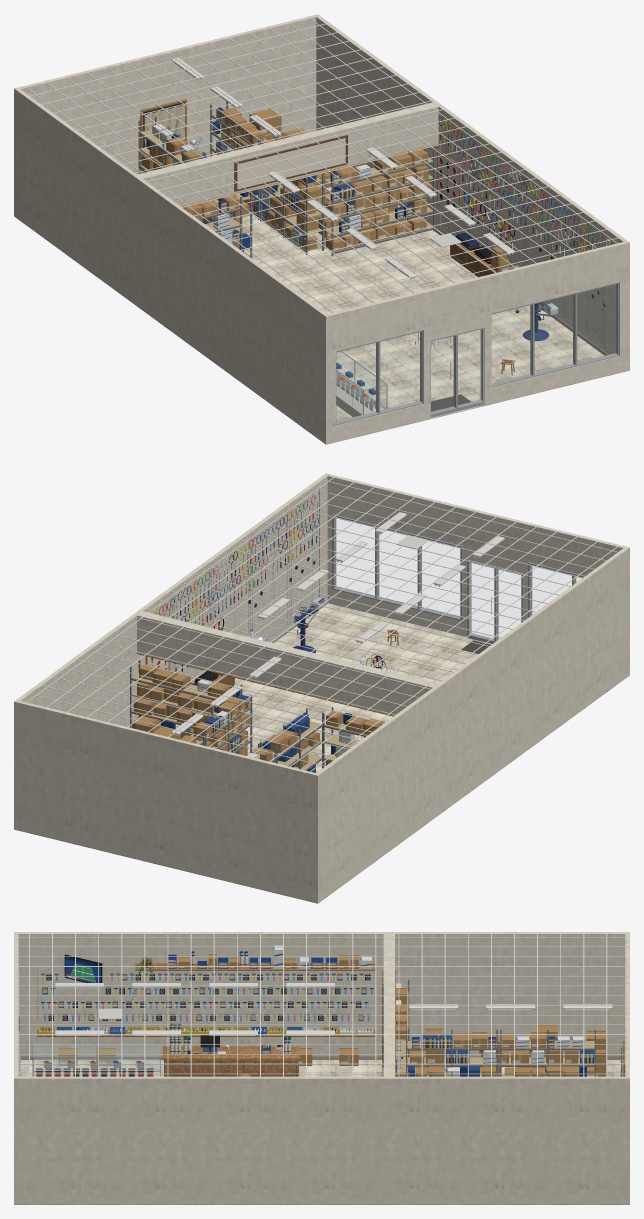
File: haopai.glb
The picture shows the model from 3 angles, top to bottom: view 1: azimuth 30°, elevation 25°; view 2: azimuth 150°, elevation 25°; view 3: azimuth 270°, elevation 25°; orthographic projection.
Visible parts, largest first — view 1: WALL_left_wall_wall, hp_vc_metal, hp_floor_floor, WALL_right_wall_wall, WALL_back_wall_wall, WALL_front_front_wall, WALL_front_front_glass, hp_goods, hp_soffit_wall, hp_vc, WALL_front_front_vcm, WALL_right_hp_vc (+5 smaller); view 2: WALL_left_wall_wall, WALL_back_wall_wall, hp_vc_metal, WALL_right_wall_wall, WALL_front_front_wall, hp_floor_floor, hp_soffit_wall, hp_goods, WALL_front_front_glass, WALL_front_front_vcm, hp_vc, WALL_right_hp_vc (+2 smaller); view 3: WALL_right_wall_wall, WALL_left_wall_wall, hp_vc_metal, WALL_left_hp_goods, hp_goods, hp_wood, hp_floor_floor, hp_glasscase_glass, WALL_left_hp_vc, hp_vc, hp_soffit_wall, WALL_left_hp_wood (+4 smaller).
Boxes of the visible parts, x1=… form: WALL_left_wall_wall: x1=14, y1=88, x2=329, y2=443; hp_vc_metal: x1=26, y1=18, x2=618, y2=414; hp_floor_floor: x1=14, y1=187, x2=629, y2=444; WALL_right_wall_wall: x1=315, y1=15, x2=629, y2=369; WALL_back_wall_wall: x1=14, y1=14, x2=319, y2=216; WALL_front_front_wall: x1=323, y1=241, x2=629, y2=443; WALL_front_front_glass: x1=337, y1=285, x2=616, y2=421; hp_goods: x1=142, y1=107, x2=509, y2=411; hp_soffit_wall: x1=137, y1=102, x2=438, y2=206; hp_vc: x1=140, y1=114, x2=558, y2=416; WALL_front_front_vcm: x1=336, y1=282, x2=619, y2=425; WALL_right_hp_vc: x1=399, y1=116, x2=609, y2=355; WALL_left_wall_wall: x1=314, y1=548, x2=629, y2=902; WALL_back_wall_wall: x1=14, y1=700, x2=320, y2=902; hp_vc_metal: x1=26, y1=477, x2=617, y2=771; WALL_right_wall_wall: x1=14, y1=475, x2=327, y2=829; WALL_front_front_wall: x1=324, y1=473, x2=629, y2=675; hp_floor_floor: x1=14, y1=603, x2=629, y2=903; hp_soffit_wall: x1=137, y1=611, x2=438, y2=715; hp_goods: x1=132, y1=656, x2=384, y2=772; WALL_front_front_glass: x1=336, y1=519, x2=580, y2=638; WALL_front_front_vcm: x1=332, y1=514, x2=584, y2=643; hp_vc: x1=131, y1=597, x2=491, y2=772; WALL_right_hp_vc: x1=151, y1=491, x2=328, y2=671; WALL_right_wall_wall: x1=14, y1=1076, x2=629, y2=1204; WALL_left_wall_wall: x1=14, y1=932, x2=629, y2=1056; hp_vc_metal: x1=18, y1=934, x2=625, y2=1076; WALL_left_hp_goods: x1=41, y1=945, x2=373, y2=1065; hp_goods: x1=36, y1=983, x2=606, y2=1076; hp_wood: x1=163, y1=970, x2=395, y2=1076; hp_floor_floor: x1=14, y1=1060, x2=629, y2=1204; hp_glasscase_glass: x1=34, y1=1046, x2=159, y2=1075; WALL_left_hp_vc: x1=20, y1=951, x2=623, y2=1059; hp_vc: x1=33, y1=984, x2=594, y2=1076; hp_soffit_wall: x1=383, y1=934, x2=394, y2=1076; WALL_left_hp_wood: x1=37, y1=963, x2=375, y2=1036.
Bounding box in the file's own units: 9 × 3.62 × 16.
Materials: 11 (7 with a texture image).
